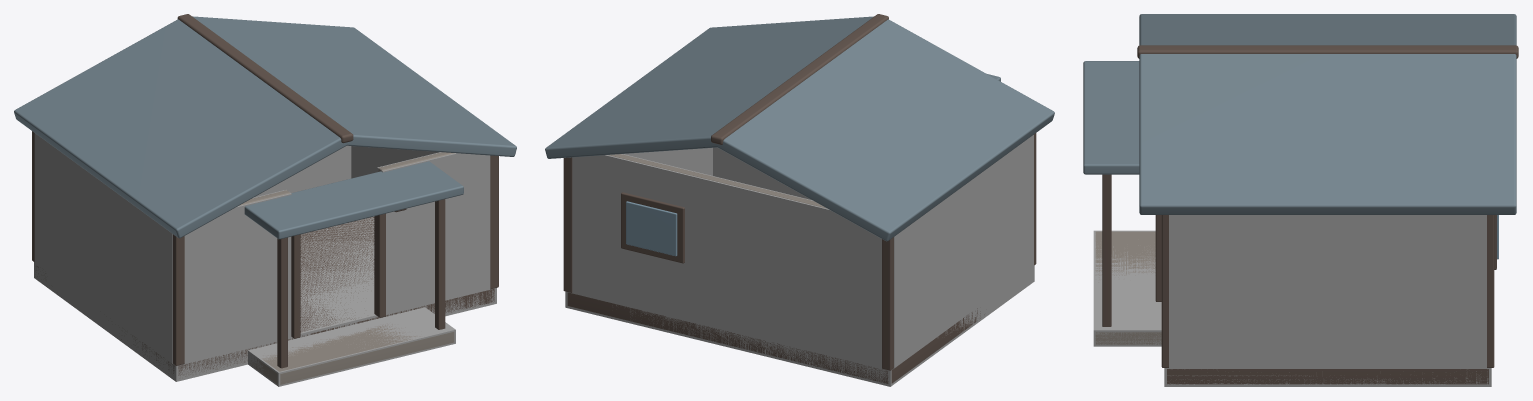
The model's file is echo-reflected-shelter.glb.
3 views of the same model, side by side, from view 1: azimuth 30°, elevation 25°; view 2: azimuth 150°, elevation 25°; view 3: azimuth 270°, elevation 25° (orthographic). The views are drawn at different scales.
Visible parts, largest first — view 1: Weathered slate roof, COL_left, Dark pine framing, COL_frontL, COL_floor, COL_frontR, Grey washed siding, COL_landing, COL_back, COL_right; view 2: Weathered slate roof, COL_back, COL_left, Dark pine framing, COL_floor, Rear window glass, COL_frontR, COL_right, Grey washed siding; view 3: Weathered slate roof, COL_right, Dark pine framing, COL_landing, Grey washed siding, COL_floor.
Part boxes in pixels (x1,y1,x2,y2): Weathered slate roof: [14, 16, 516, 239]; COL_left: [34, 133, 172, 363]; Dark pine framing: [32, 14, 498, 376]; COL_frontL: [184, 190, 291, 363]; COL_floor: [34, 216, 496, 381]; COL_frontR: [377, 152, 490, 314]; Grey washed siding: [239, 152, 454, 384]; COL_landing: [248, 307, 455, 386]; COL_back: [254, 145, 351, 197]; COL_right: [351, 146, 439, 178]; Weathered slate roof: [545, 16, 1054, 241]; COL_back: [572, 154, 881, 368]; COL_left: [893, 135, 1033, 368]; Dark pine framing: [563, 14, 1036, 383]; COL_floor: [565, 265, 1034, 386]; Rear window glass: [626, 201, 677, 256]; COL_frontR: [713, 147, 811, 199]; COL_right: [623, 147, 712, 175]; Grey washed siding: [608, 154, 826, 208]; Weathered slate roof: [1083, 14, 1516, 214]; COL_right: [1169, 215, 1486, 368]; Dark pine framing: [1102, 45, 1518, 384]; COL_landing: [1093, 230, 1161, 346]; Grey washed siding: [1095, 231, 1161, 344]; COL_floor: [1164, 368, 1491, 386].
Size of the model in its own units: 5.58 by 3.38 by 5.36.
